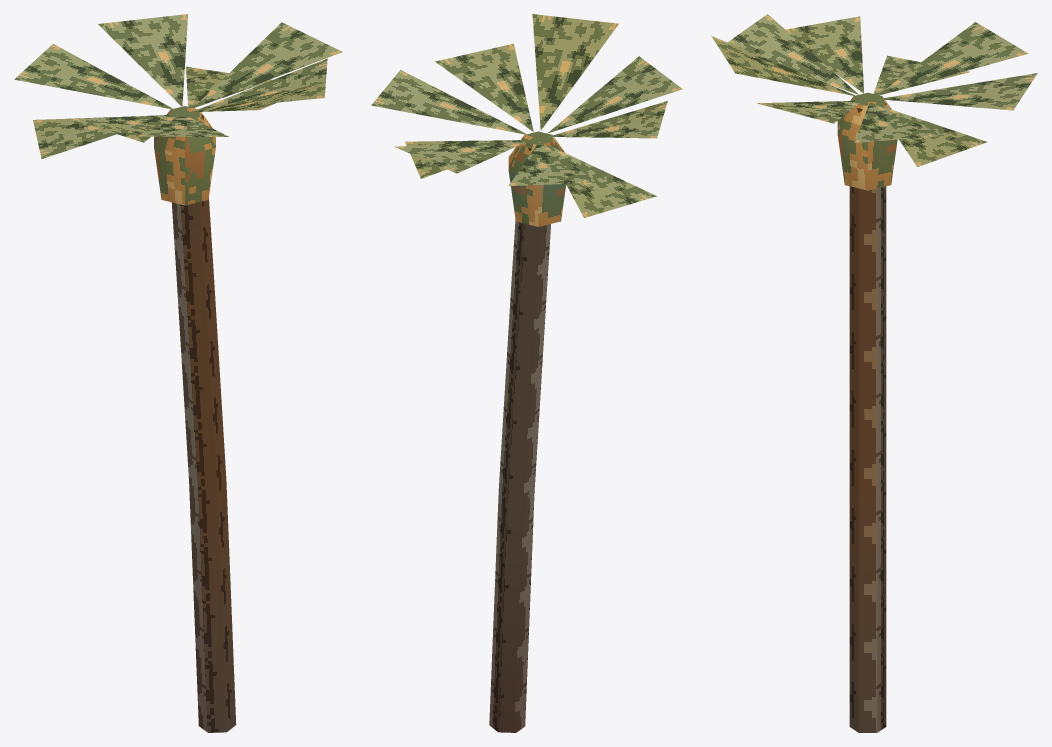
Rendered from wland.palm__tall.glb.
3 views of the same model, side by side, from view 1: azimuth 30°, elevation 25°; view 2: azimuth 150°, elevation 25°; view 3: azimuth 270°, elevation 25° (orthographic). The views are drawn at different scales.
Visible parts, largest first — view 1: kit_card_fronds_back, kit_trunks, kit_skirts; view 2: kit_card_fronds_back, kit_trunks, kit_skirts; view 3: kit_card_fronds_back, kit_trunks, kit_skirts.
Boxes of the visible parts, x1=… form: kit_card_fronds_back: x1=14, y1=14, x2=342, y2=158; kit_trunks: x1=171, y1=114, x2=236, y2=732; kit_skirts: x1=154, y1=106, x2=215, y2=205; kit_card_fronds_back: x1=371, y1=14, x2=682, y2=217; kit_trunks: x1=489, y1=142, x2=556, y2=732; kit_skirts: x1=508, y1=131, x2=566, y2=226; kit_card_fronds_back: x1=711, y1=14, x2=1037, y2=166; kit_trunks: x1=849, y1=103, x2=886, y2=732; kit_skirts: x1=837, y1=92, x2=897, y2=190.
Size of the model in its own units: 3.86 by 8.87 by 3.9.
Materials: 3 (3 with a texture image).
